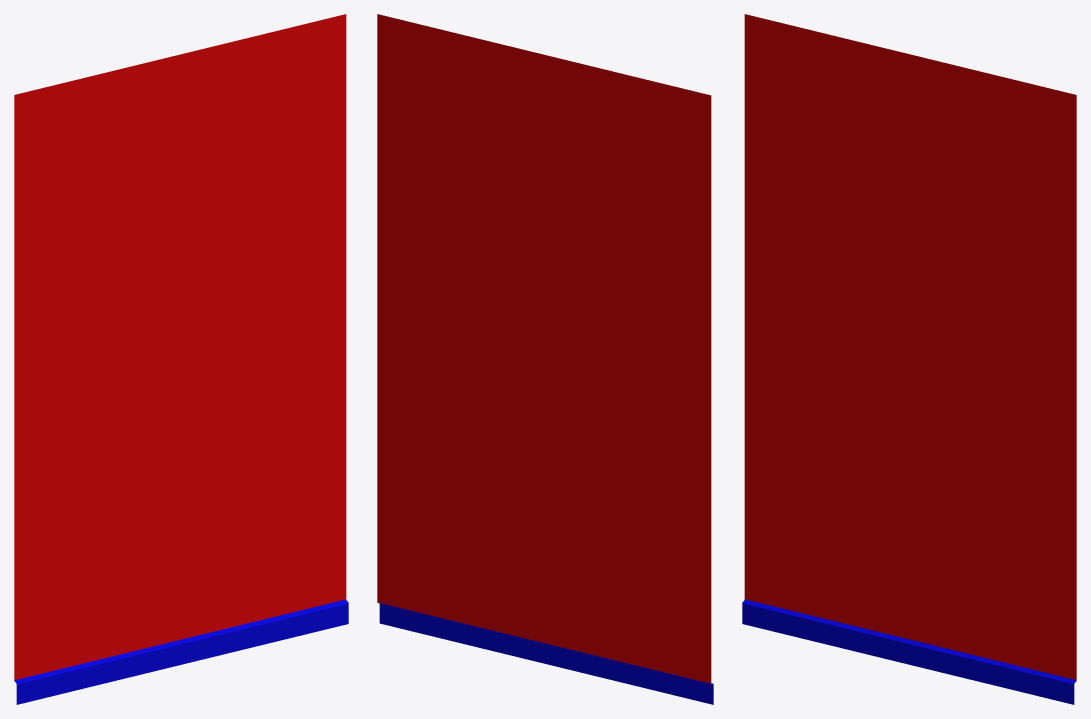
Rendered from Kitchen_Wall.fbx.
3 renders of one model, left to right at view 1: azimuth 30°, elevation 25°; view 2: azimuth 150°, elevation 25°; view 3: azimuth 330°, elevation 25°, orthographic.
Visible parts, largest first — view 1: SM_Wall; view 2: SM_Wall; view 3: SM_Wall.
Part boxes in pixels (bbox=[...]): SM_Wall: bbox=[14, 14, 348, 704]; SM_Wall: bbox=[377, 14, 713, 704]; SM_Wall: bbox=[742, 14, 1076, 704].
Size of the model in its own units: 200 by 350 by 2.58.
